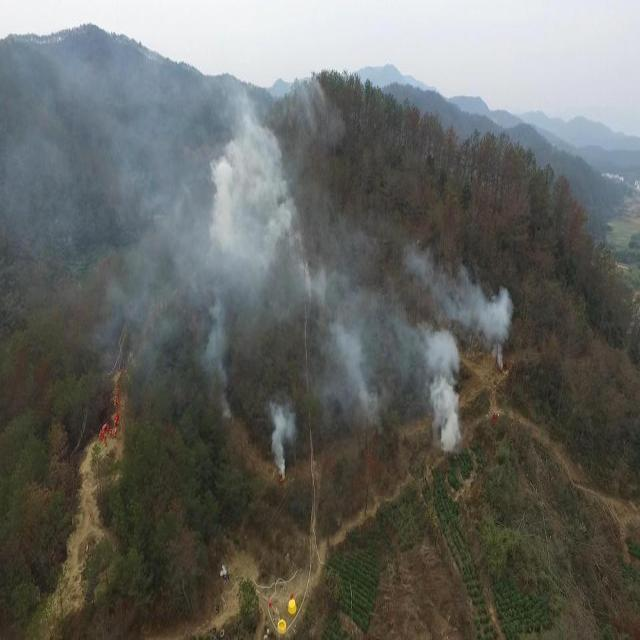Fire: (94, 362, 146, 453), (491, 348, 516, 382), (272, 468, 298, 490)
Smoke: (200, 119, 304, 328), (399, 237, 530, 344), (316, 288, 390, 433), (412, 324, 472, 462)
